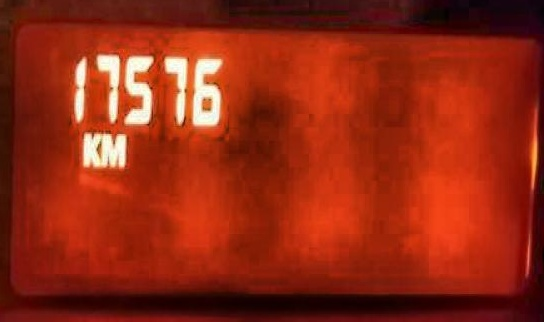1: (160, 52, 187, 125), (70, 50, 87, 124)
5: (123, 52, 153, 125)
6: (190, 53, 222, 127)
7: (93, 50, 119, 124)
X: (100, 127, 126, 168), (79, 127, 100, 167)
